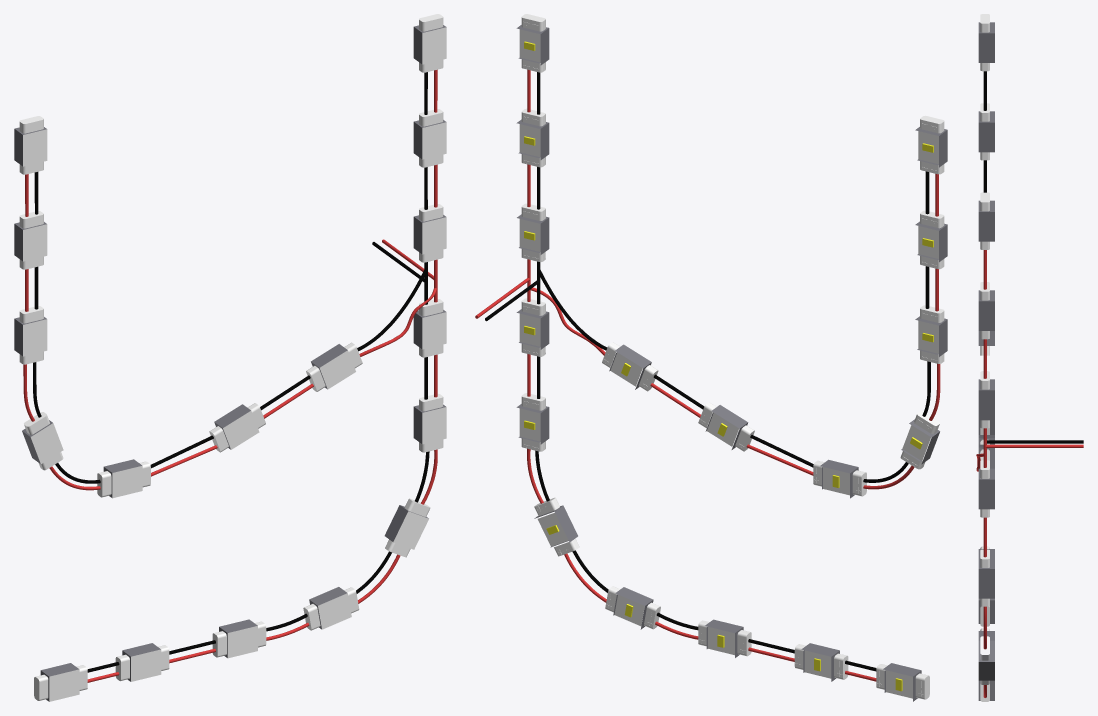
File: FIXED.glb
3 views of the same model, side by side, from view 1: azimuth 30°, elevation 25°; view 2: azimuth 150°, elevation 25°; view 3: azimuth 270°, elevation 25° (orthographic). The views are drawn at different scales.
Parts seen in each view (by area): view 1: FIXED; view 2: FIXED; view 3: FIXED.
Boxes of the visible parts, x1,y1,x2,y2 form: FIXED: [14, 14, 446, 701]; FIXED: [475, 14, 947, 701]; FIXED: [976, 14, 1083, 701].
Bounding box in the file's own units: 35.01 × 46.4 × 8.18.
